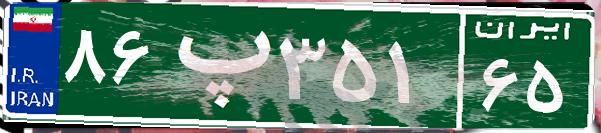1: (385, 28, 445, 110)
3: (273, 28, 330, 110)
5: (330, 28, 385, 110), (525, 38, 570, 115)
6: (475, 38, 525, 113), (110, 28, 158, 105)
8: (57, 26, 110, 107)
پ: (158, 15, 273, 115)
